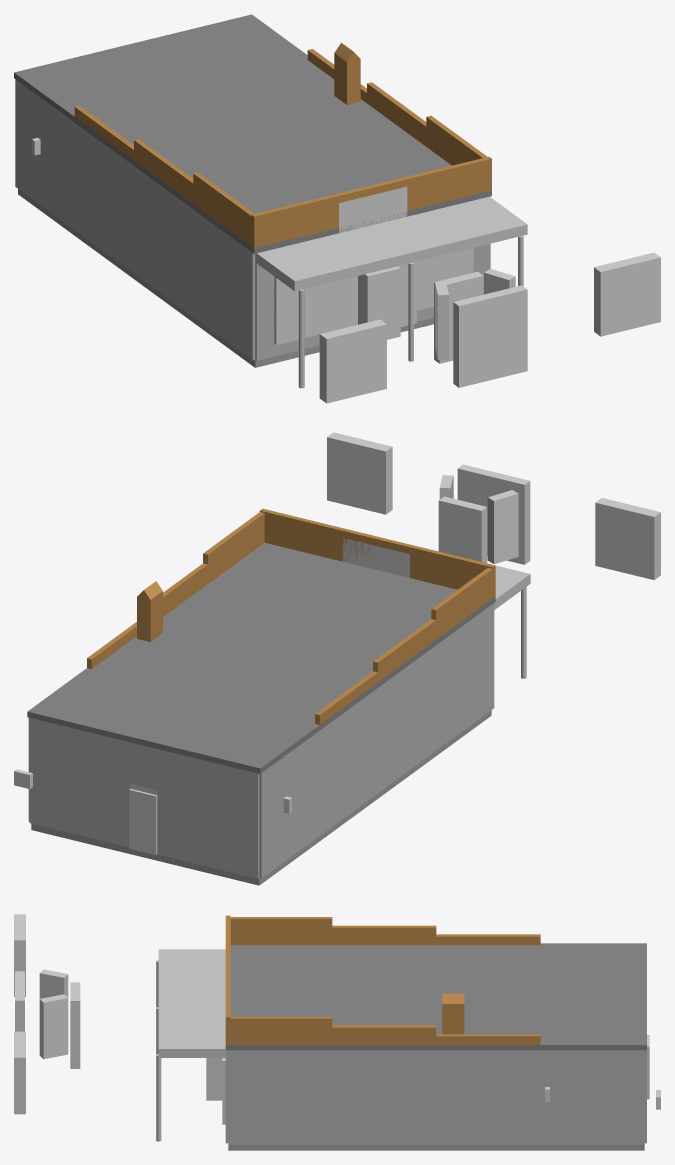
The model's file is building_phase_1c_iter_006.glb.
The picture shows the model from 3 angles, top to bottom: view 1: azimuth 30°, elevation 25°; view 2: azimuth 150°, elevation 25°; view 3: azimuth 270°, elevation 25°; orthographic projection. The views are drawn at different scales.
Parts seen in each view (by area): view 1: Roof, Wall_Left, Canopy_Roof, Parapet_Front, front_alcove_opening_Cutter.013, front_left_display_window_Cutter.023, front_right_display_window_Cutter.023, Wall_Front, front_entry_door_Cutter, front_left_display_window_Cutter, front_left_display_window_Cutter.006, Foundation (+18 smaller); view 2: Roof, Wall_Left, Wall_Rear, Parapet_Front, front_right_display_window_Cutter.023, front_left_display_window_Cutter.023, Foundation, front_alcove_opening_Cutter.013, front_entry_door_Cutter.023, door_alcove_right_window_Cutter.011, Parapet_Left_Level_1, Parapet_Right_Level_1 (+8 smaller); view 3: Wall_Right, Roof, Canopy_Roof, Parapet_Left_Level_1, Parapet_Right_Level_1, Foundation, Parapet_Left_Level_2, Parapet_Right_Level_2, door_alcove_left_window_Cutter.011, Parapet_Left_Level_3, Parapet_Right_Level_3, front_right_display_window_Cutter.023 (+9 smaller).
Part boxes in pixels (x1=…): Roof: x1=14, y1=14, x2=491, y2=253; Wall_Left: x1=15, y1=79, x2=255, y2=360; Canopy_Roof: x1=255, y1=196, x2=527, y2=291; Parapet_Front: x1=251, y1=156, x2=491, y2=248; front_alcove_opening_Cutter.013: x1=453, y1=285, x2=527, y2=387; front_left_display_window_Cutter.023: x1=319, y1=319, x2=386, y2=403; front_right_display_window_Cutter.023: x1=594, y1=252, x2=660, y2=336; Wall_Front: x1=255, y1=244, x2=489, y2=360; front_entry_door_Cutter: x1=358, y1=266, x2=400, y2=331; front_left_display_window_Cutter: x1=274, y1=277, x2=336, y2=336; front_left_display_window_Cutter.006: x1=274, y1=281, x2=336, y2=344; Foundation: x1=18, y1=189, x2=433, y2=367; Roof: x1=27, y1=542, x2=495, y2=773; Wall_Left: x1=259, y1=603, x2=494, y2=878; Wall_Rear: x1=29, y1=718, x2=259, y2=878; Parapet_Front: x1=259, y1=508, x2=495, y2=597; front_right_display_window_Cutter.023: x1=327, y1=432, x2=392, y2=514; front_left_display_window_Cutter.023: x1=595, y1=498, x2=660, y2=579; Foundation: x1=31, y1=710, x2=491, y2=885; front_alcove_opening_Cutter.013: x1=457, y1=464, x2=530, y2=564; front_entry_door_Cutter.023: x1=438, y1=496, x2=487, y2=563; door_alcove_right_window_Cutter.011: x1=487, y1=490, x2=518, y2=564; Parapet_Left_Level_1: x1=431, y1=567, x2=492, y2=639; Parapet_Right_Level_1: x1=203, y1=512, x2=264, y2=583; Wall_Right: x1=228, y1=1050, x2=644, y2=1144; Roof: x1=225, y1=943, x2=646, y2=1050; Canopy_Roof: x1=158, y1=949, x2=228, y2=1057; Parapet_Left_Level_1: x1=230, y1=917, x2=332, y2=945; Parapet_Right_Level_1: x1=230, y1=1016, x2=332, y2=1044; Foundation: x1=228, y1=1144, x2=644, y2=1150; Parapet_Left_Level_2: x1=332, y1=925, x2=436, y2=945; Parapet_Right_Level_2: x1=332, y1=1025, x2=436, y2=1044; door_alcove_left_window_Cutter.011: x1=39, y1=994, x2=68, y2=1059; Parapet_Left_Level_3: x1=436, y1=934, x2=540, y2=945; Parapet_Right_Level_3: x1=436, y1=1034, x2=540, y2=1044; front_right_display_window_Cutter.023: x1=14, y1=1031, x2=25, y2=1114.
Bounding box in the file's own units: 12.2 × 6.03 × 23.31.
